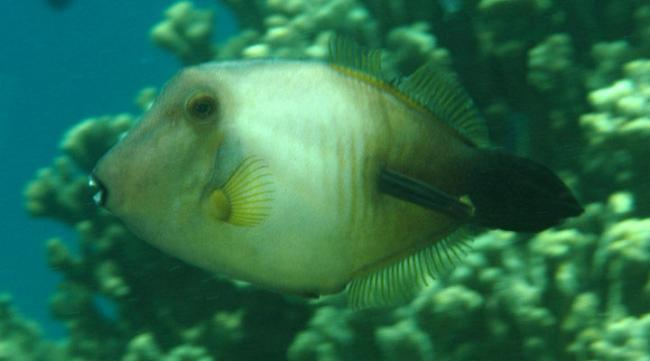fish: (91, 58, 585, 299)
